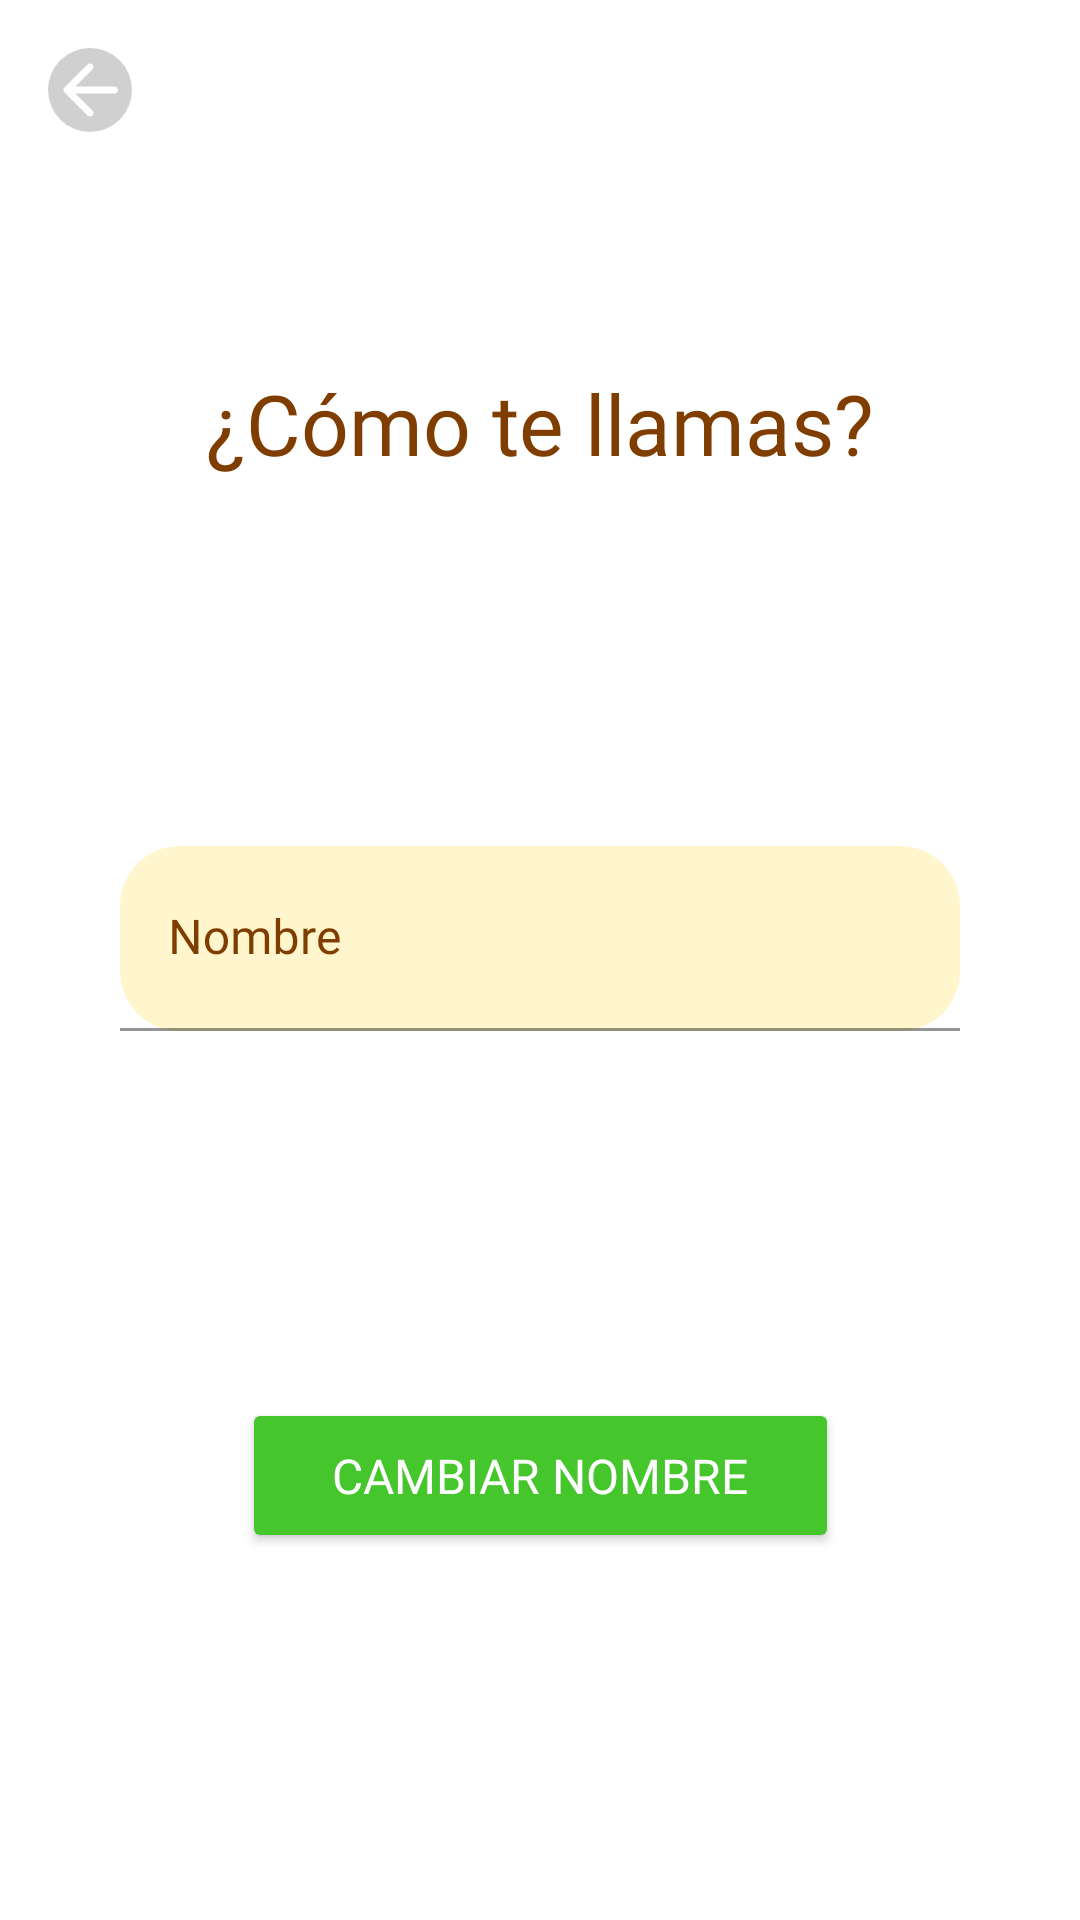

Screen size 1080 × 1920. Icon name, then its center in pixels as [x,y]:
arrow back: [90,90]
